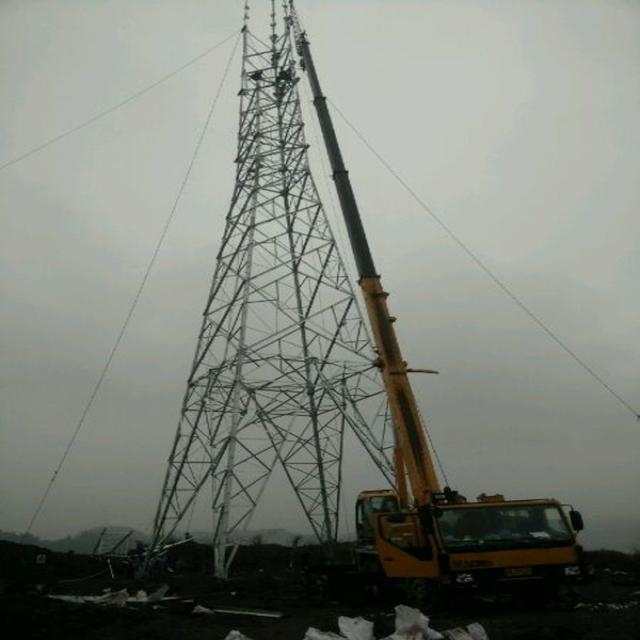non-critical vegetation: (172, 11, 370, 576)
